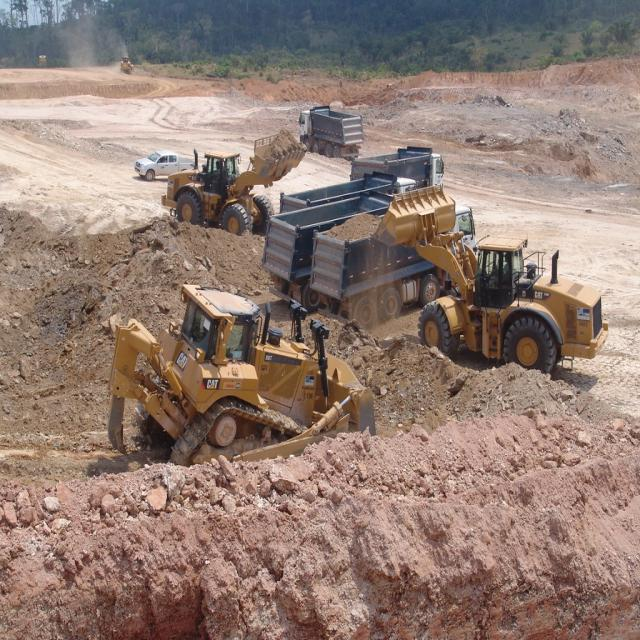buldozerpayloadergrader: (90, 284, 400, 481), (377, 177, 637, 394), (152, 124, 304, 260)
dump_truck: (238, 139, 484, 323), (296, 102, 364, 166)
light_vehicle: (131, 140, 200, 177)
